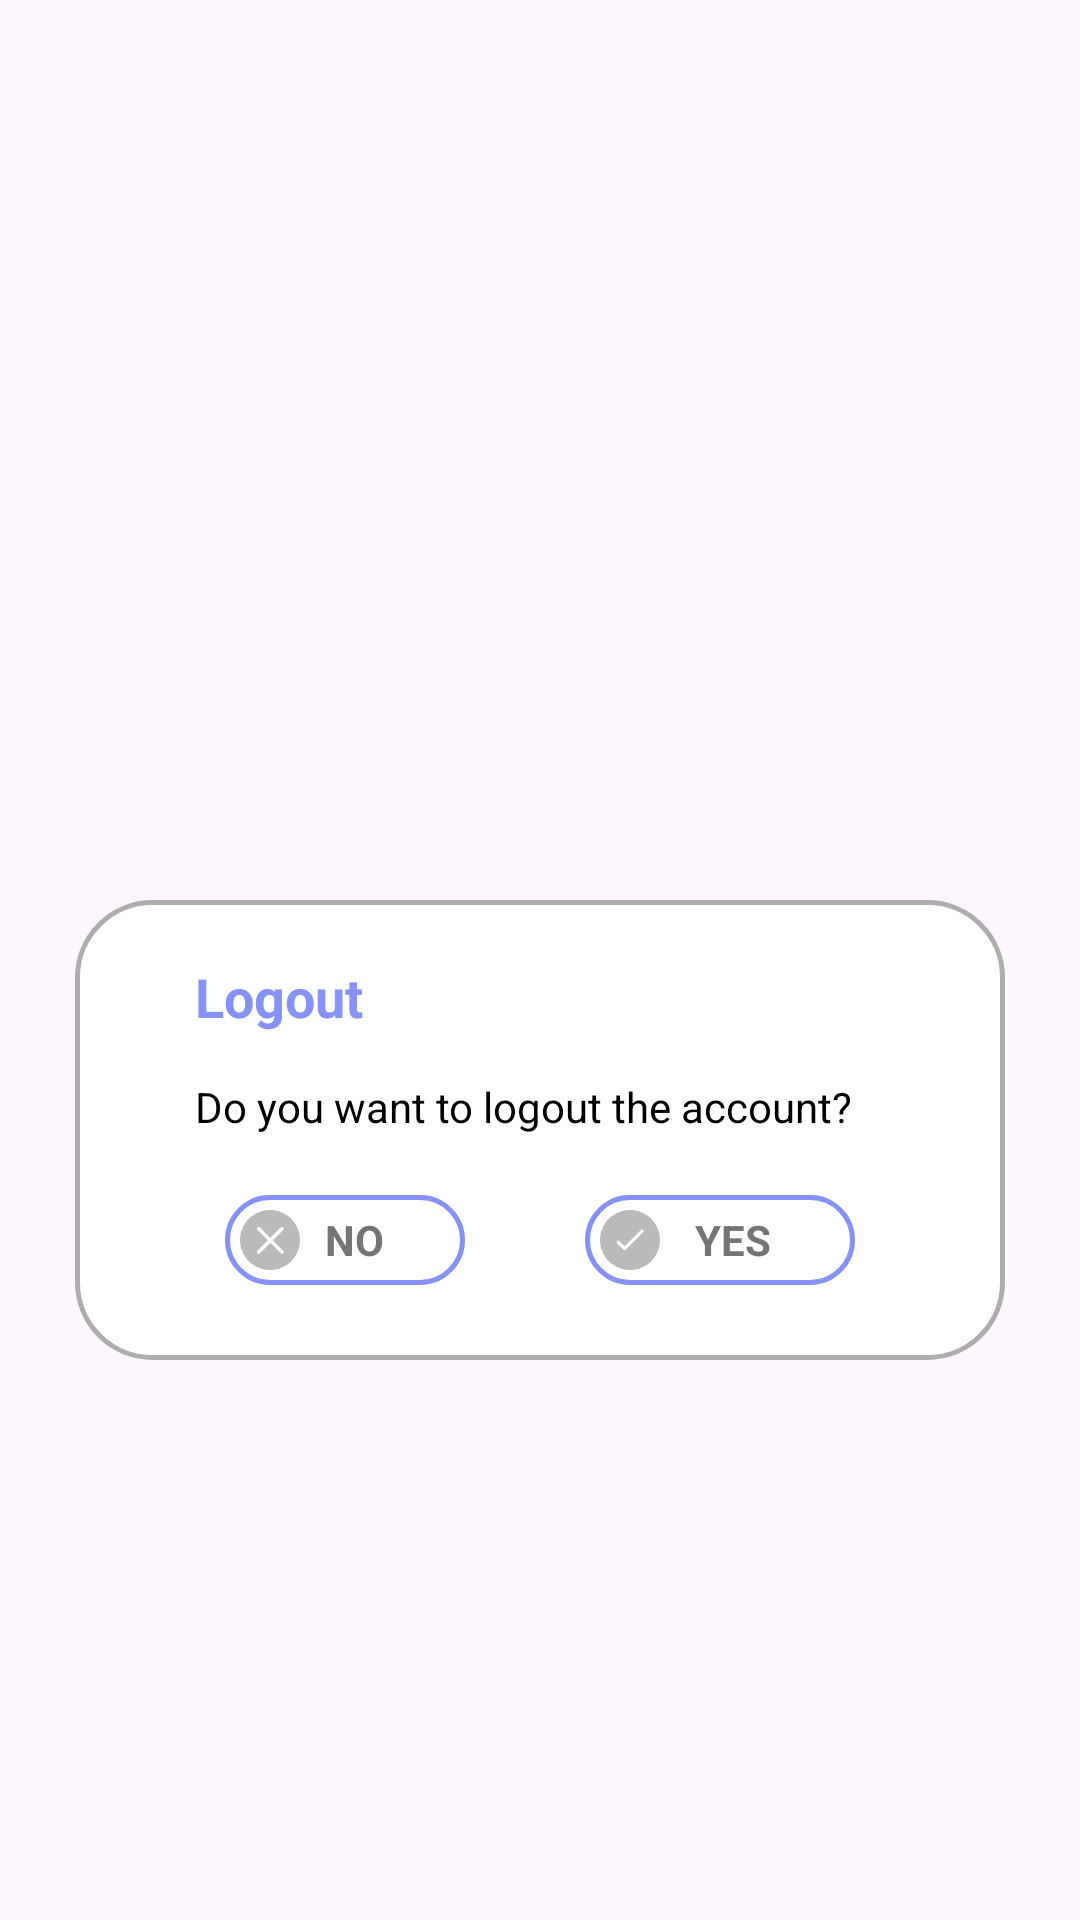

Named icons in this screenshot (1080 × 1920) and their centers, (x,y):
close: (270,1240)
